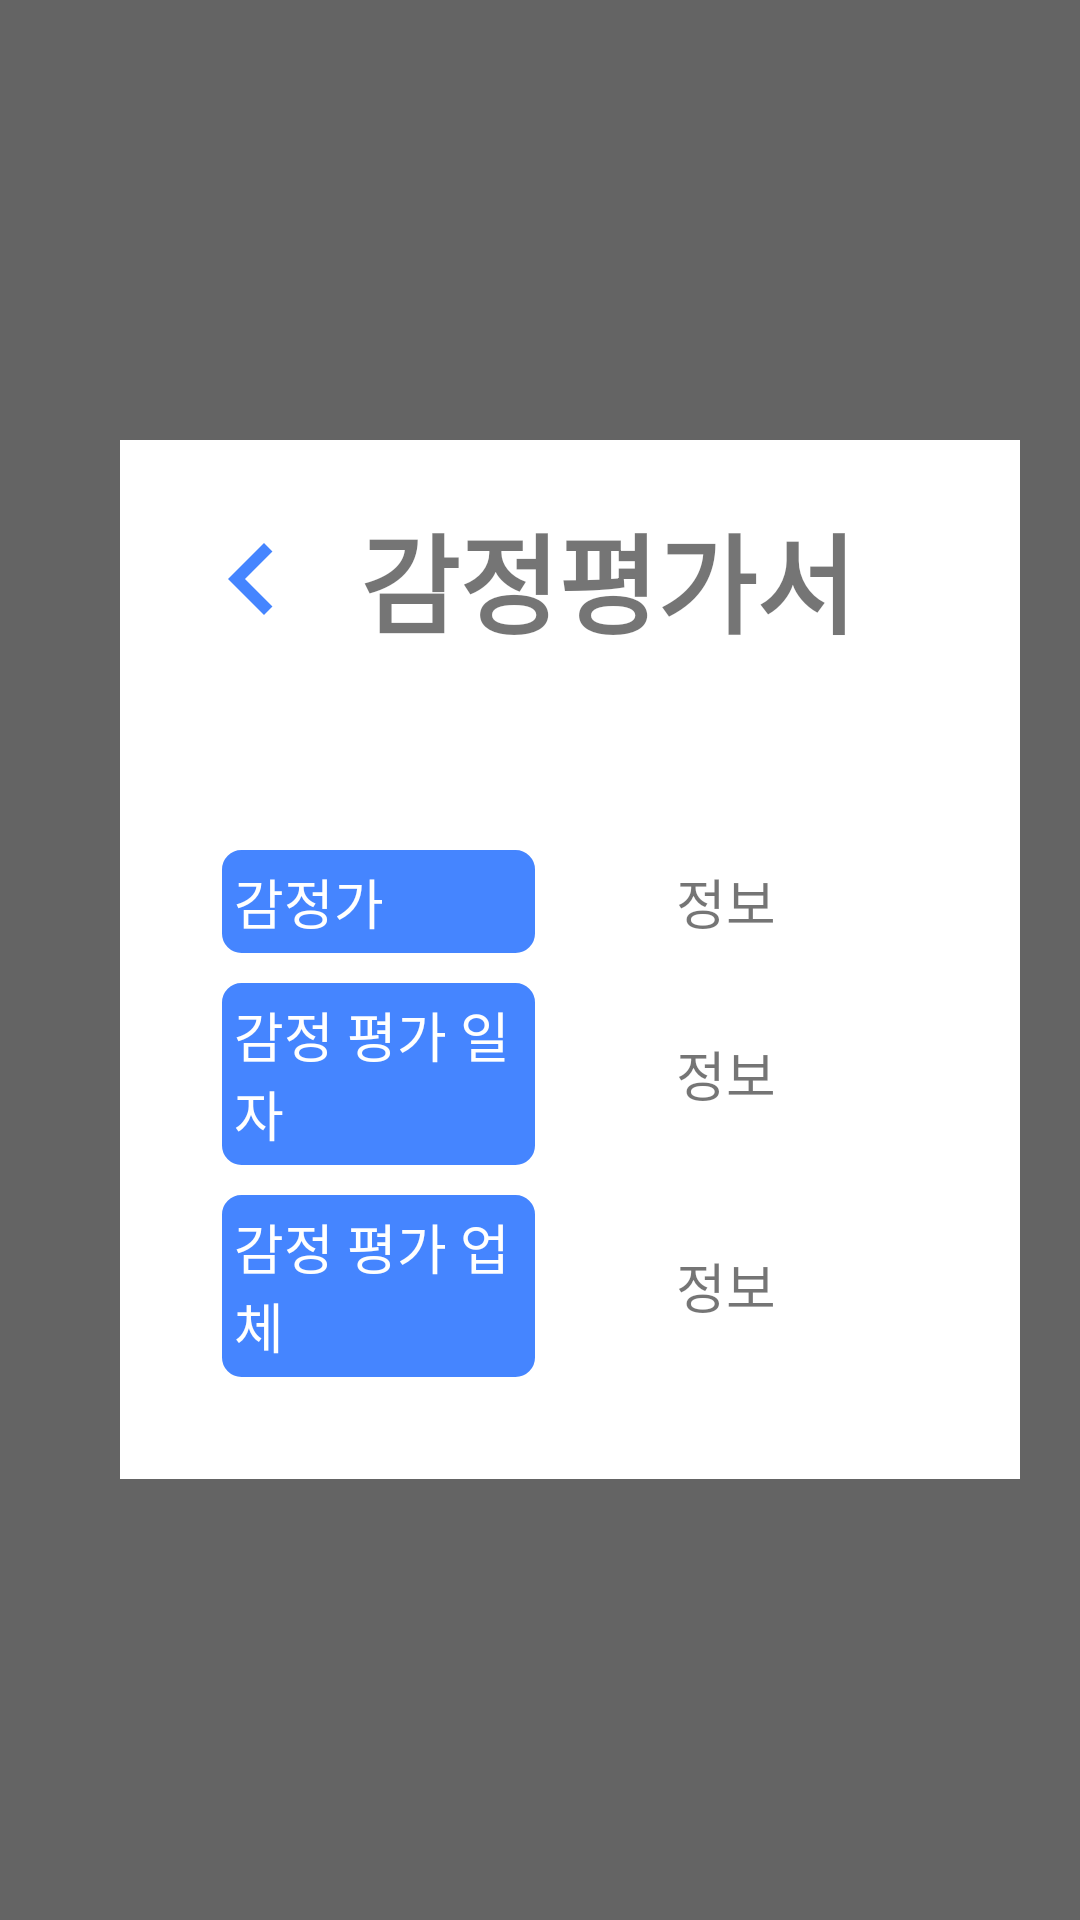

Point at icon controls on the screen. Image size 1080×1920, points as point (x, y).
keyboard arrow left: point (250, 579)
